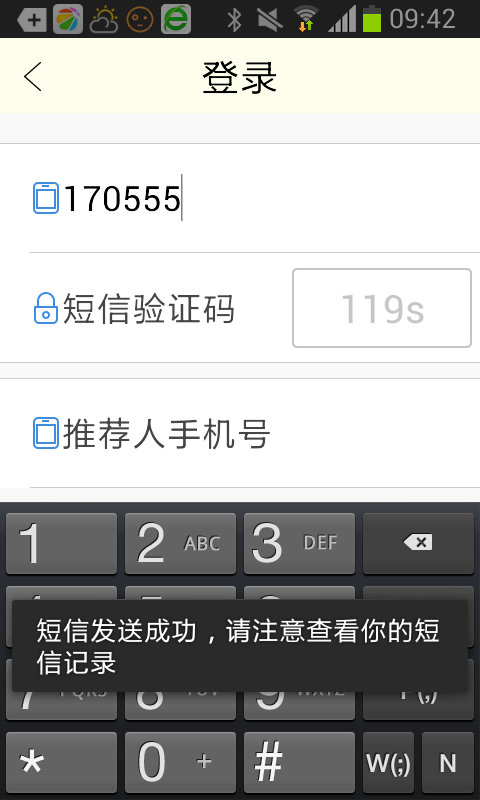alert: (10, 595, 473, 695)
button: (284, 262, 479, 353)
textview: (6, 141, 478, 368)
